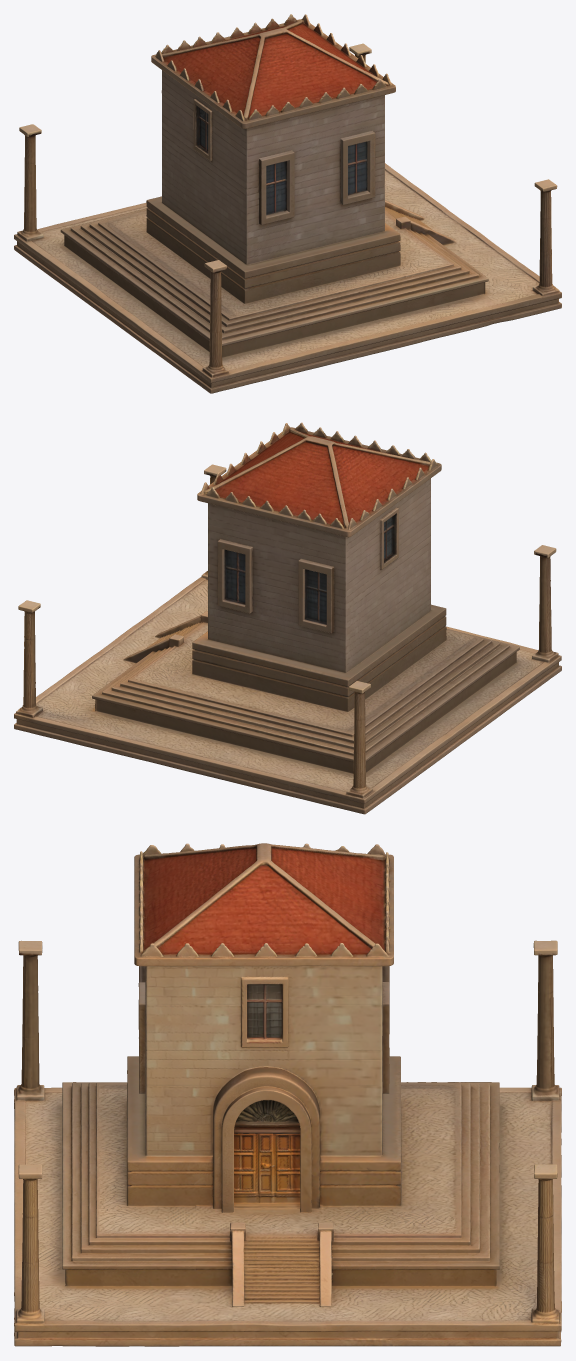
Rendered from templo-romano.glb.
3 views of the same model, one above another, from view 1: azimuth 30°, elevation 25°; view 2: azimuth 150°, elevation 25°; view 3: azimuth 270°, elevation 25° (orthographic). The views are drawn at different scales.
Parts seen in each view (by area): view 1: tripo_node_f2ae8ae6-380c-48f6-bf9f-9a8b45c742dc; view 2: tripo_node_f2ae8ae6-380c-48f6-bf9f-9a8b45c742dc; view 3: tripo_node_f2ae8ae6-380c-48f6-bf9f-9a8b45c742dc.
Part boxes in pixels (x1,y1,x2,y2): tripo_node_f2ae8ae6-380c-48f6-bf9f-9a8b45c742dc: (14, 14, 561, 393); tripo_node_f2ae8ae6-380c-48f6-bf9f-9a8b45c742dc: (14, 422, 561, 814); tripo_node_f2ae8ae6-380c-48f6-bf9f-9a8b45c742dc: (14, 843, 561, 1346).
Bounding box in the file's own units: 1 × 0.7055 × 0.9714.
Materials: 1 (1 with a texture image).
